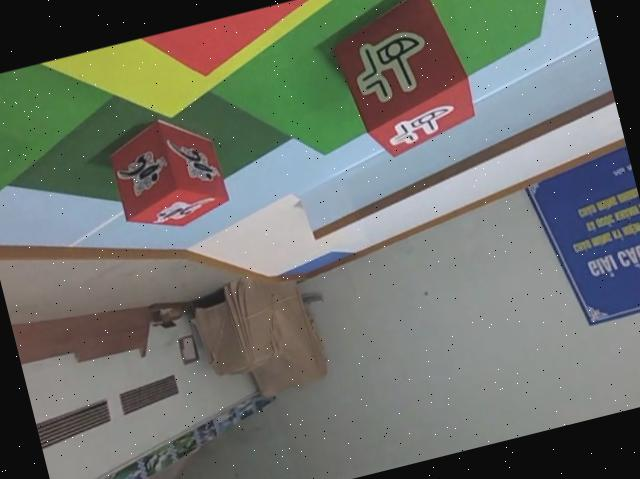R1: (101, 104, 237, 246)
R2 Real: (323, 0, 487, 168)
